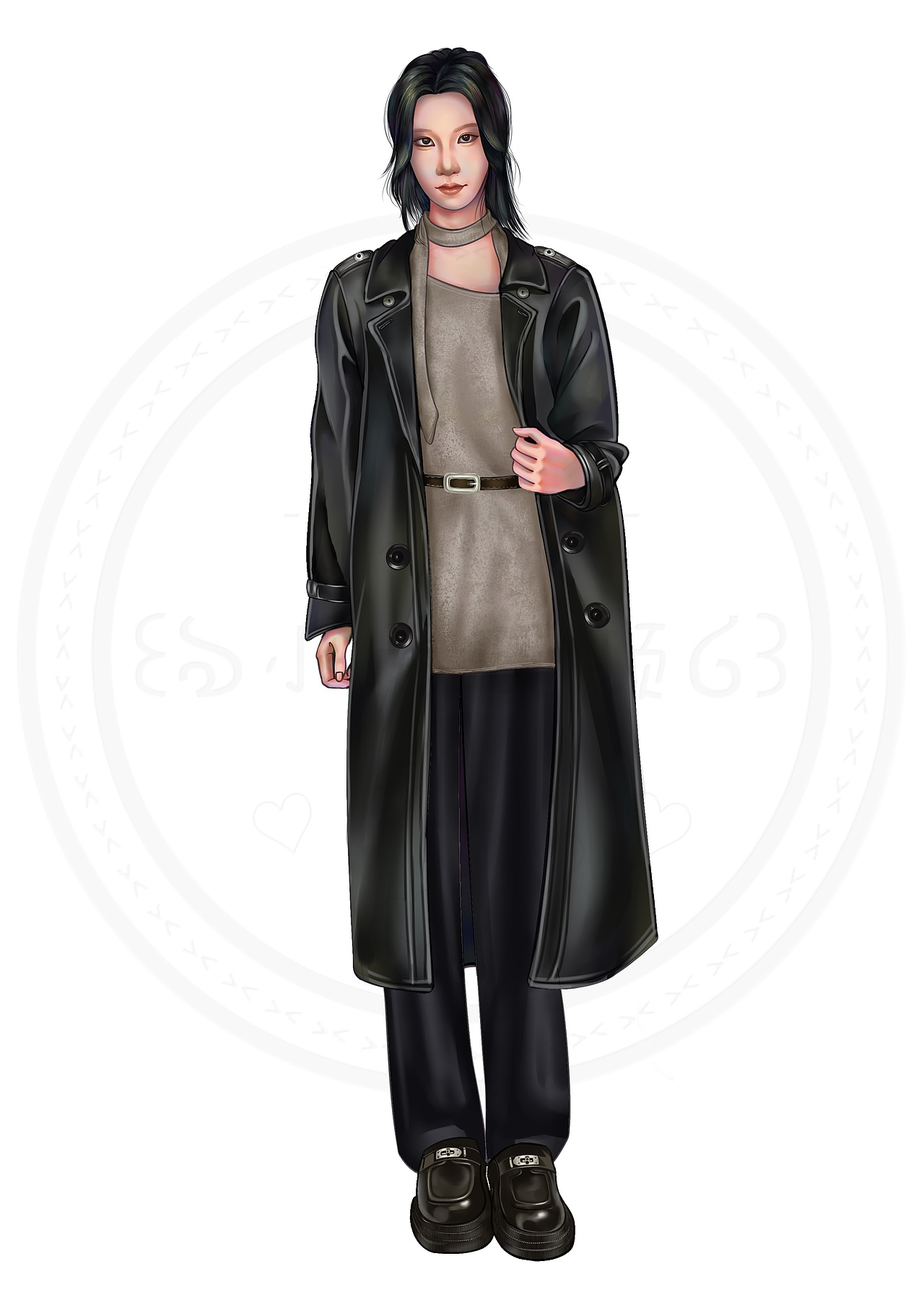up: (279, 33, 675, 1232)
